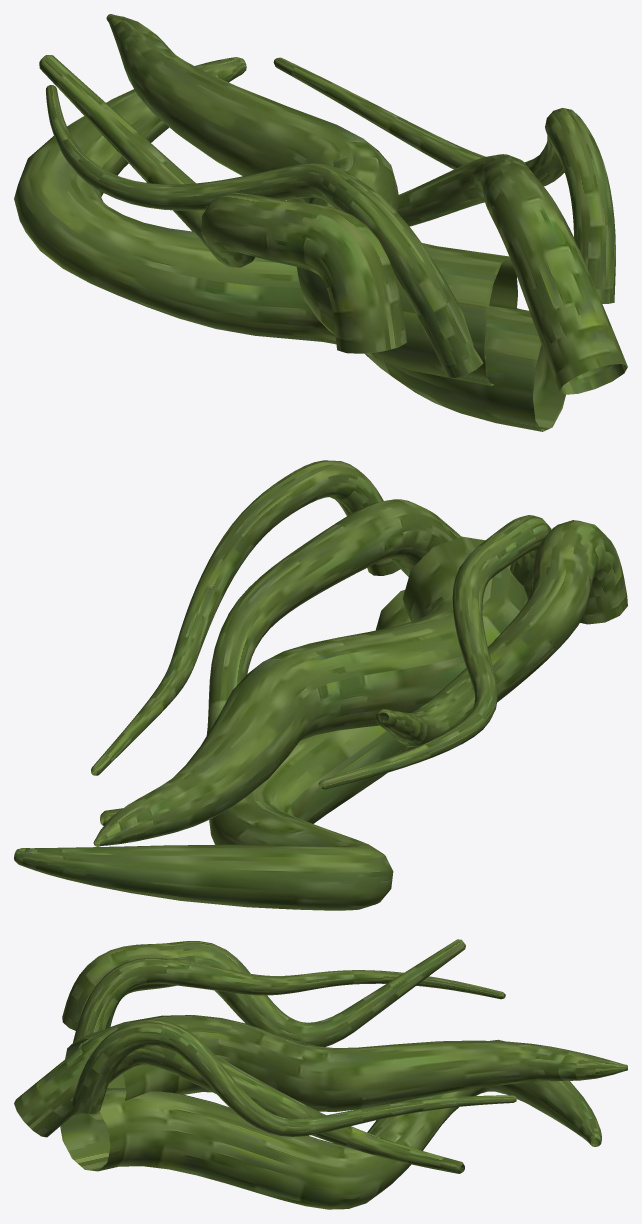
File: PlantBridge.fbx
The picture shows the model from 3 angles, top to bottom: view 1: azimuth 30°, elevation 25°; view 2: azimuth 150°, elevation 25°; view 3: azimuth 270°, elevation 25°; orthographic projection. The views are drawn at different scales.
Parts seen in each view (by area): view 1: Vine02, Vine01, Vine03, Vine05, Vine04, Vine06; view 2: Vine01, Vine02, Vine03, Vine05, Vine06, Vine04; view 3: Vine02, Vine01, Vine06, Vine03, Vine05, Vine04.
Part boxes in pixels (x1,y1,x2,y2): Vine02: (14, 57, 565, 431); Vine01: (106, 14, 517, 386); Vine03: (39, 55, 406, 353); Vine05: (397, 154, 627, 394); Vine04: (46, 85, 485, 377); Vine06: (273, 57, 615, 303); Vine01: (93, 536, 528, 846); Vine02: (14, 590, 416, 910); Vine03: (375, 520, 627, 746); Vine05: (100, 499, 461, 825); Vine06: (91, 460, 400, 775); Vine04: (318, 515, 551, 789); Vine02: (60, 1039, 601, 1209); Vine01: (65, 1015, 627, 1120); Vine06: (72, 1019, 516, 1136); Vine03: (62, 939, 465, 1046); Vine05: (14, 1024, 464, 1173); Vine04: (73, 957, 505, 1048).
Size of the model in its own units: 1129 by 852 by 2260.
